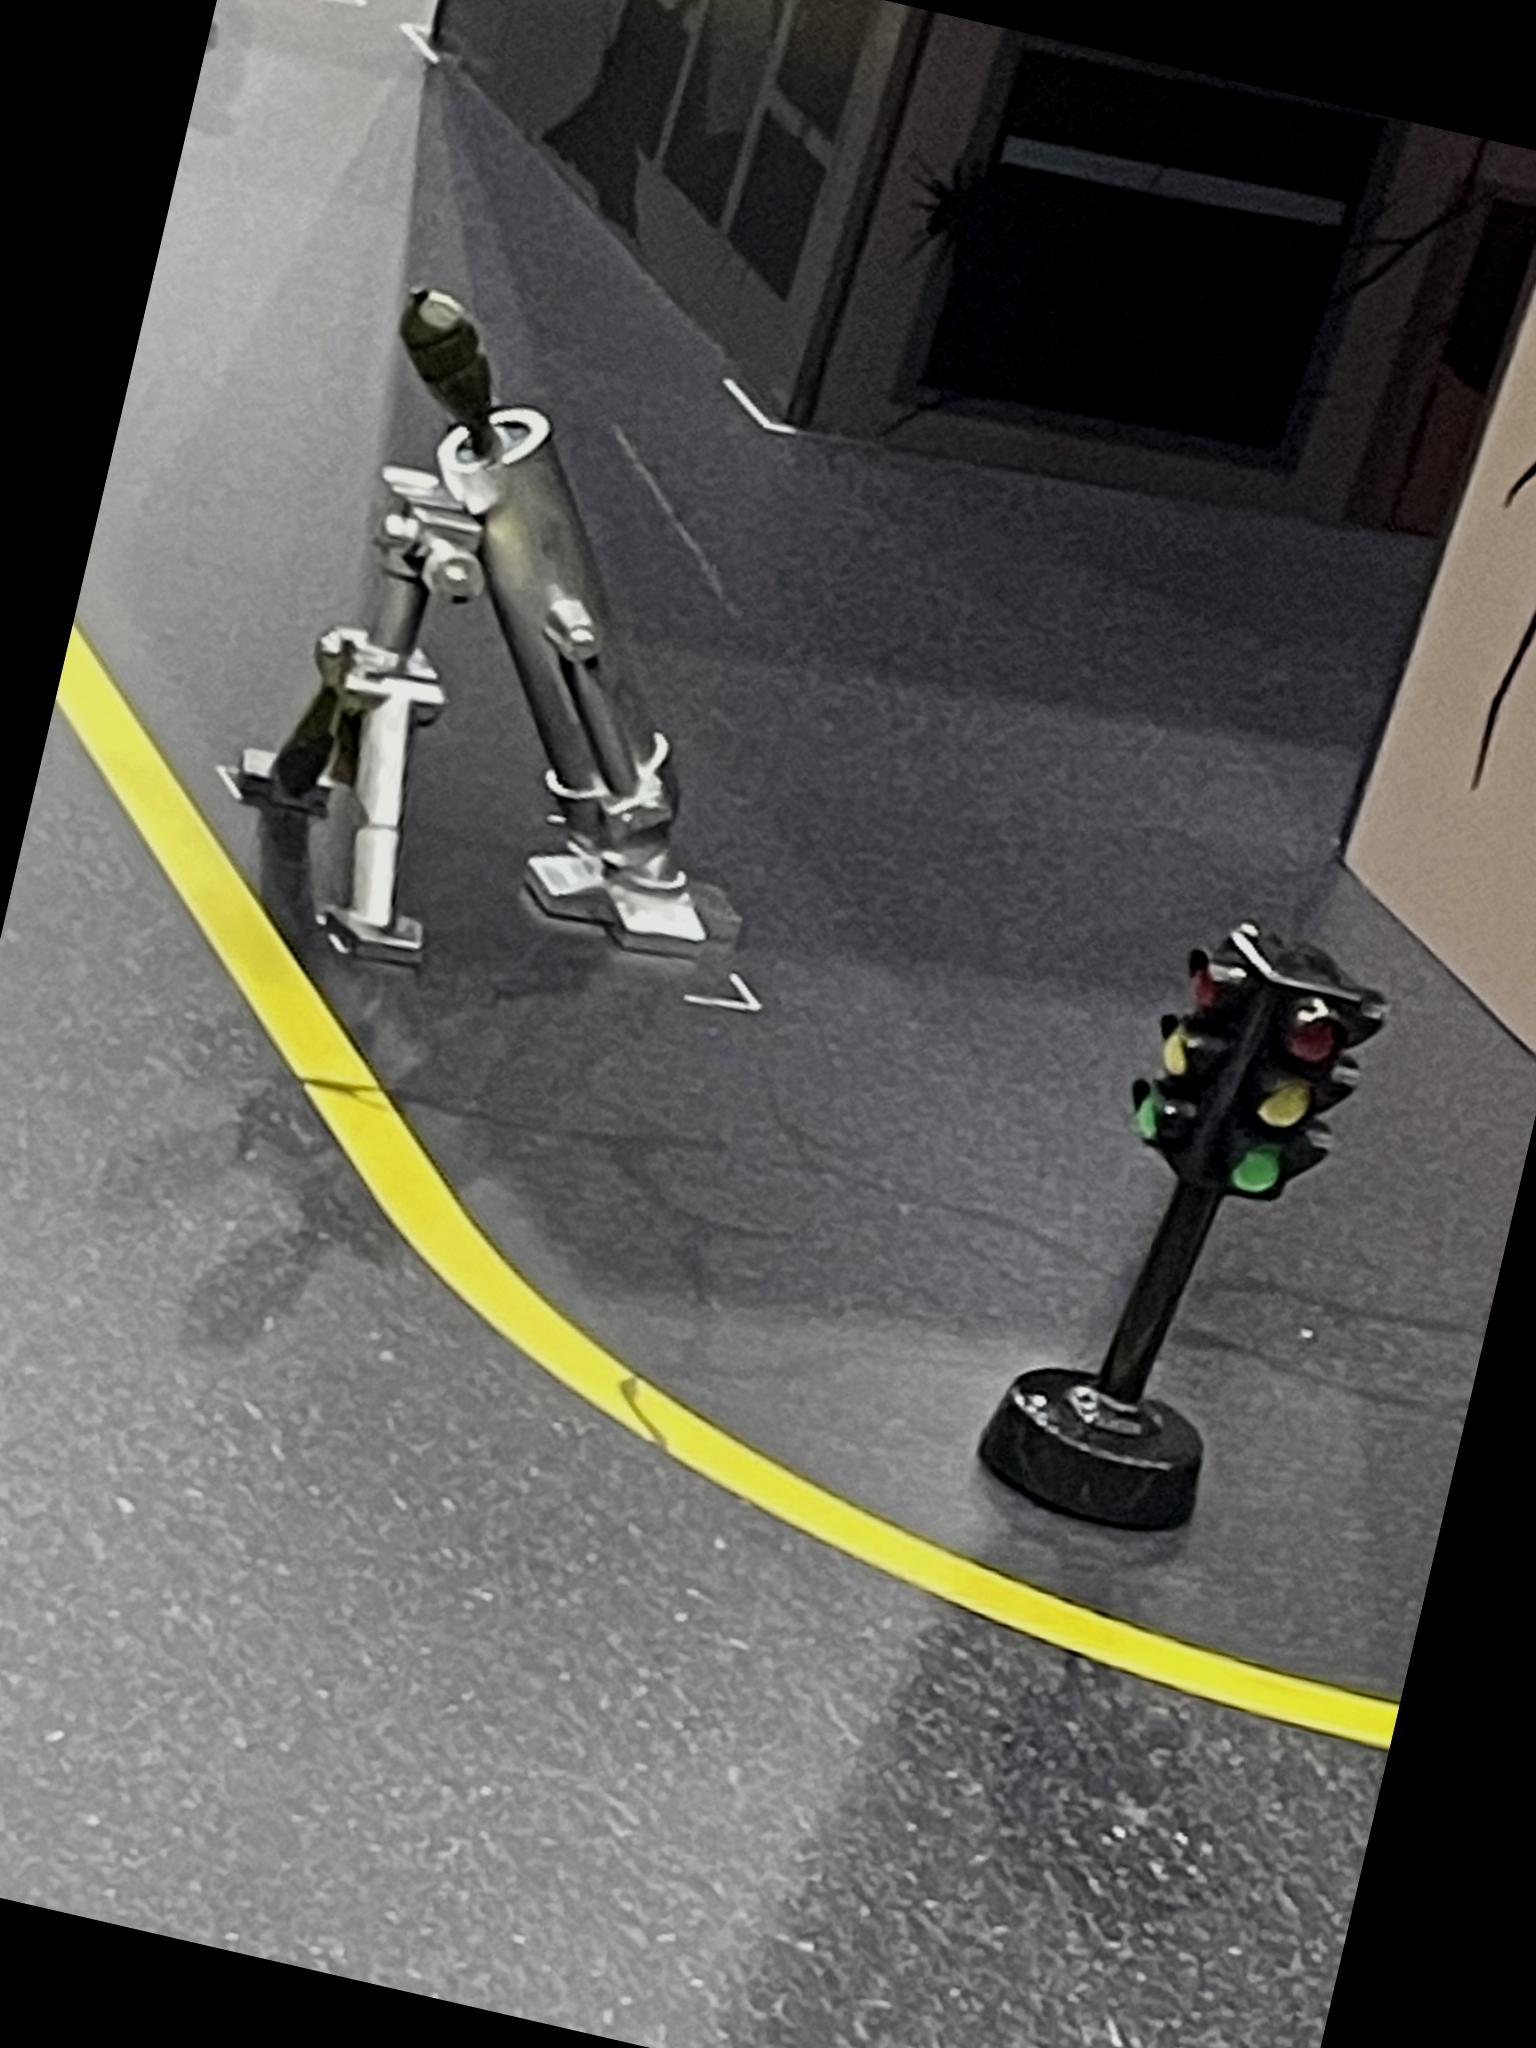Mortar: (190, 263, 876, 1047)
